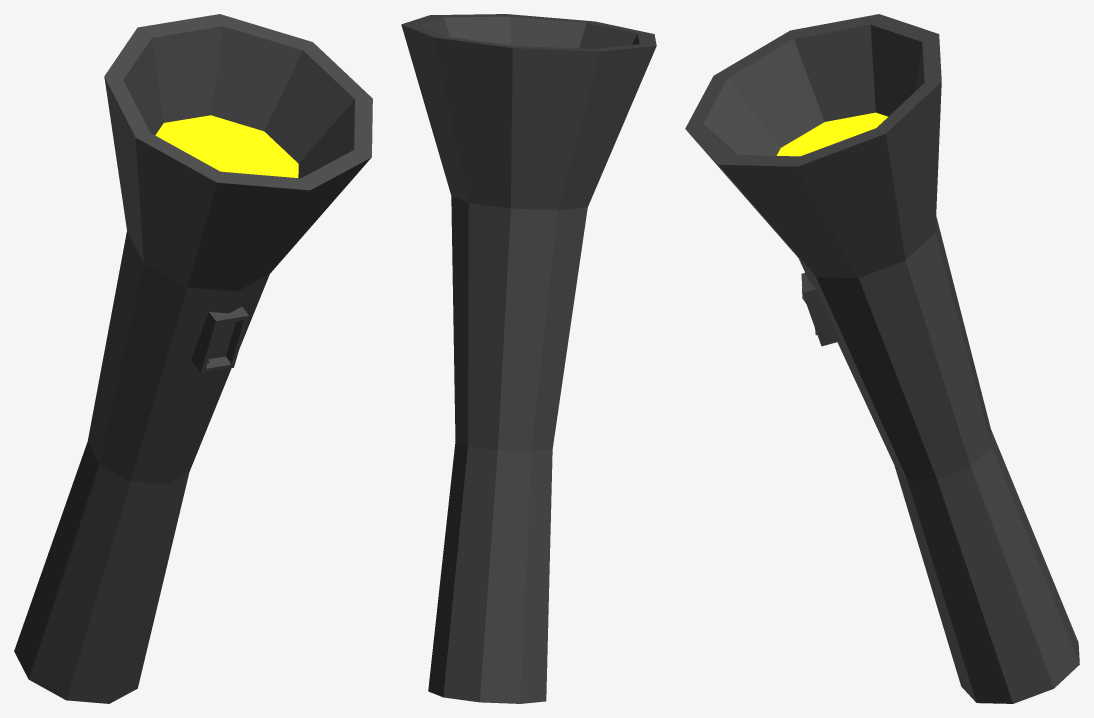
File: lanterna.glb
The picture shows the model from 3 angles, left to right: view 1: azimuth 30°, elevation 25°; view 2: azimuth 150°, elevation 25°; view 3: azimuth 270°, elevation 25°; orthographic projection. The views are drawn at different scales.
Visible parts, largest first — view 1: lanterna; view 2: lanterna; view 3: lanterna.
Part boxes in pixels (x1,y1,x2,y2): lanterna: (14,14,372,703); lanterna: (401,14,656,703); lanterna: (685,14,1079,703).
Size of the model in its own units: 21.33 by 57.54 by 31.17.
